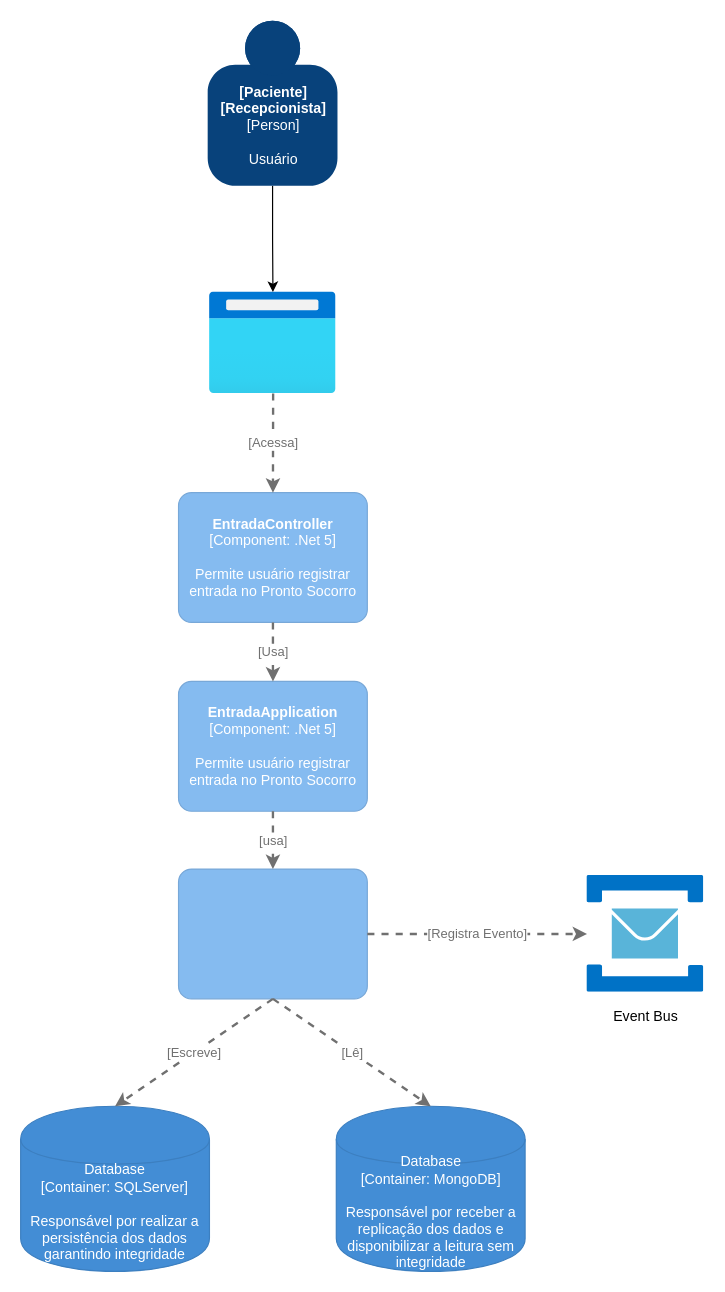
Image size: 725x1292. Some labels were removed from this diagram. The box of each missing label's shape, as (x1, y1, x2, y2) in pixels:
Infraestrutura [Component: .Net 5] Responsável por realizar acessos IO: (177, 868, 367, 999)
SPA: (209, 291, 336, 393)
